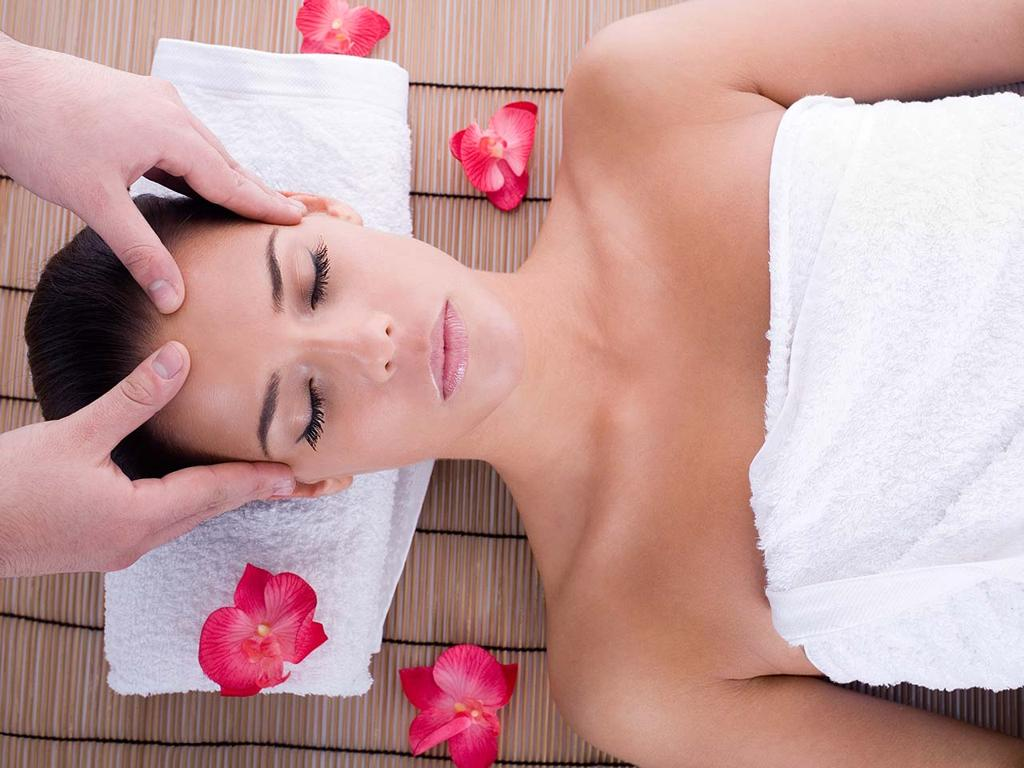face: (120, 214, 516, 478)
